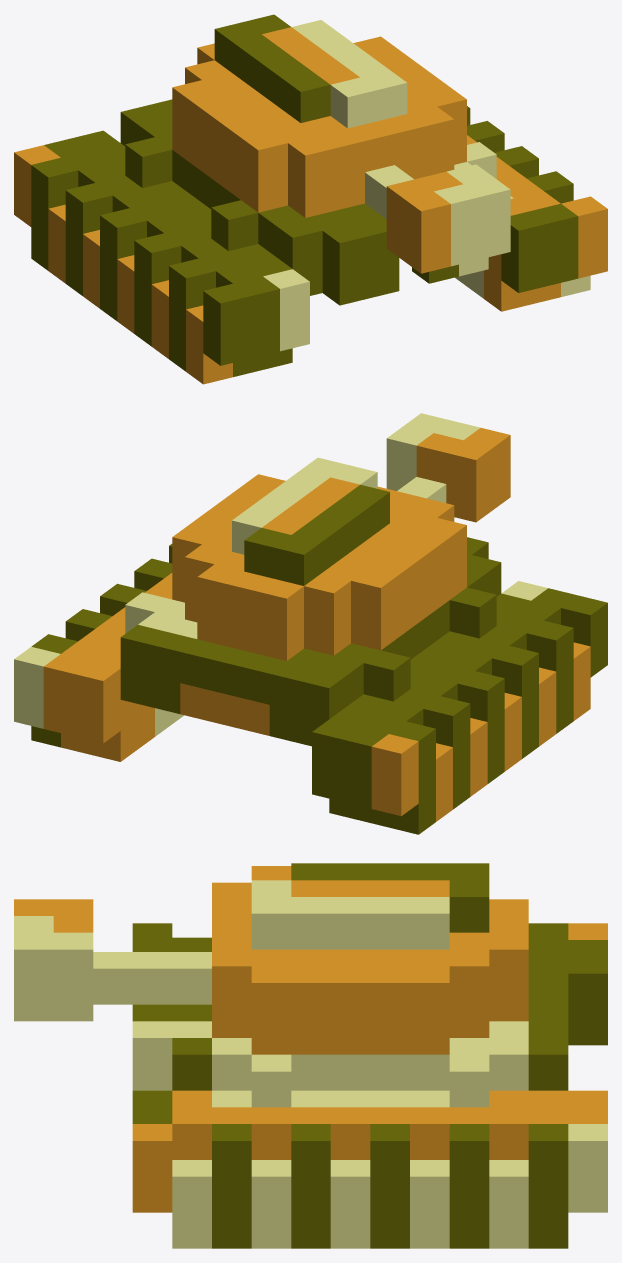
The model's file is YellowTankT3.fbx.
3 views of the same model, one above another, from view 1: azimuth 30°, elevation 25°; view 2: azimuth 150°, elevation 25°; view 3: azimuth 270°, elevation 25° (orthographic). The views are drawn at different scales.
Visible parts, largest first — view 1: BC1.005; view 2: BC1.005; view 3: BC1.005.
Part boxes in pixels (<box>): BC1.005: <box>14,14,607,384</box>; BC1.005: <box>14,413,607,834</box>; BC1.005: <box>14,863,607,1248</box>.
Size of the model in its own units: 1300 by 700 by 1500.
